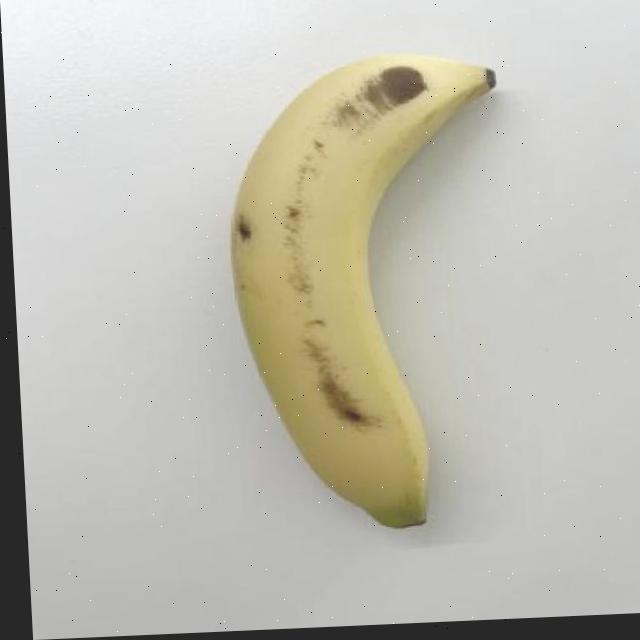banana: (209, 33, 535, 543)
